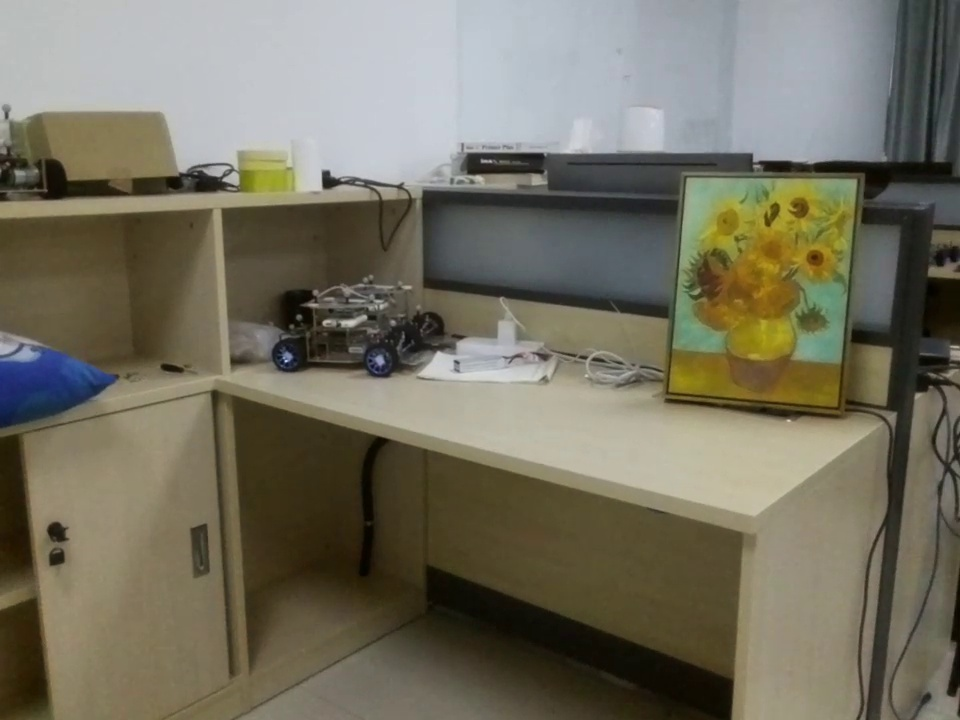painting: (668, 173, 865, 419)
